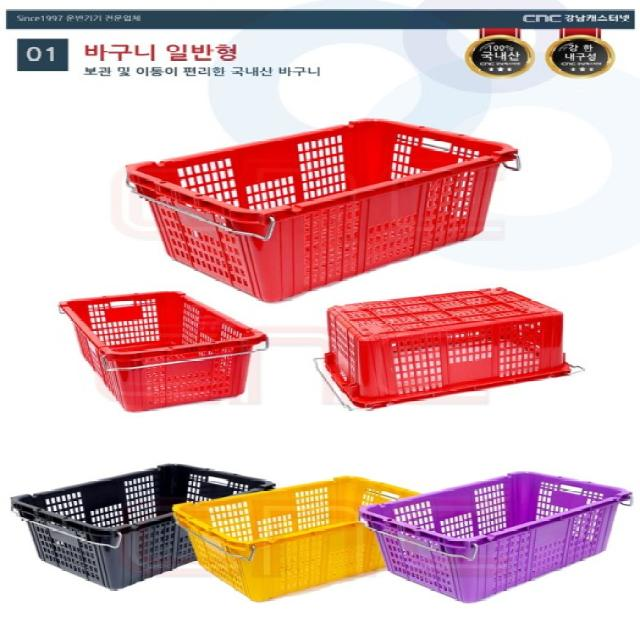basket: (123, 80, 538, 328), (8, 424, 290, 613), (171, 443, 432, 619), (315, 271, 573, 415), (57, 272, 274, 421)
